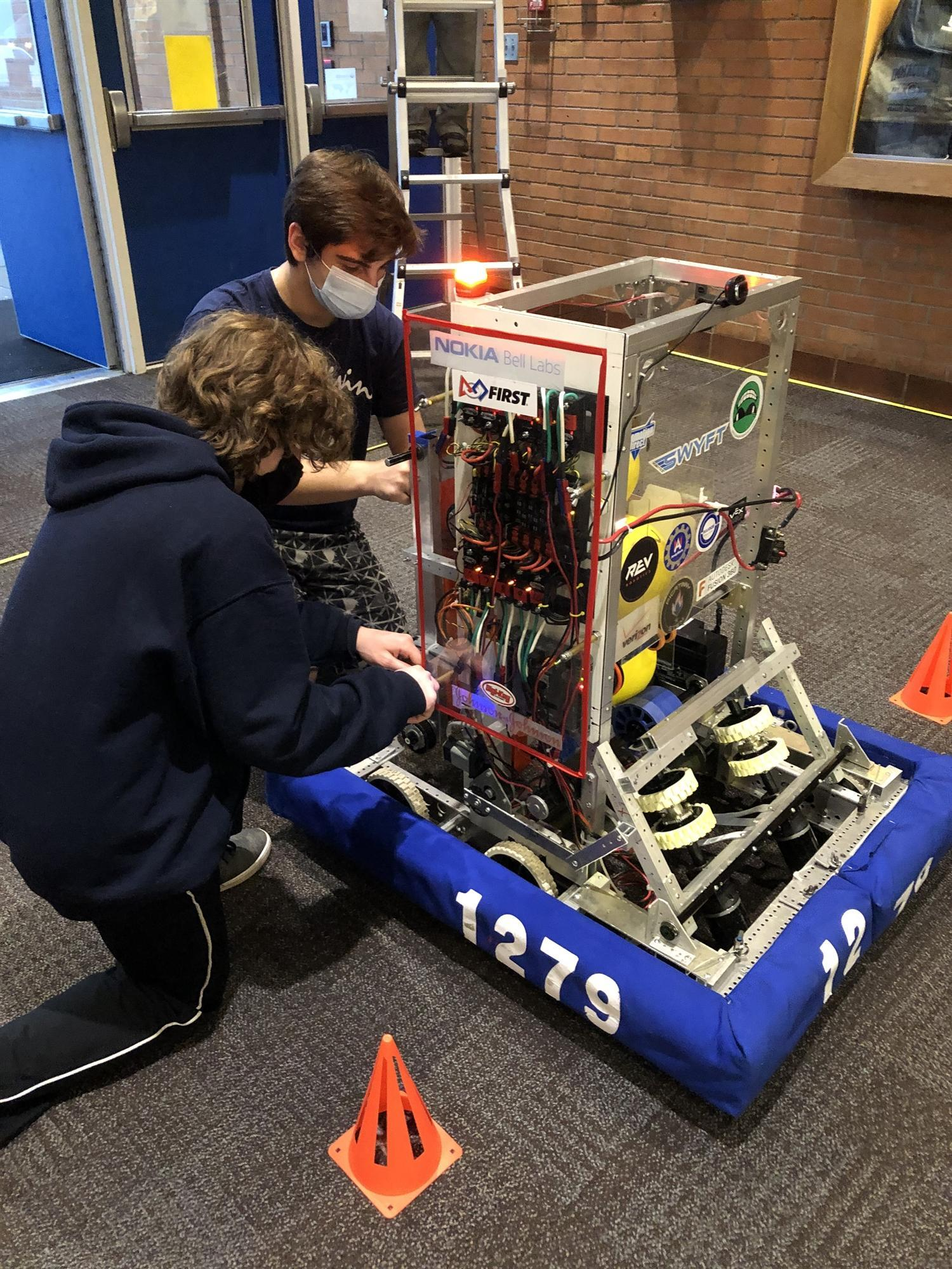robot: (267, 250, 952, 1146)
